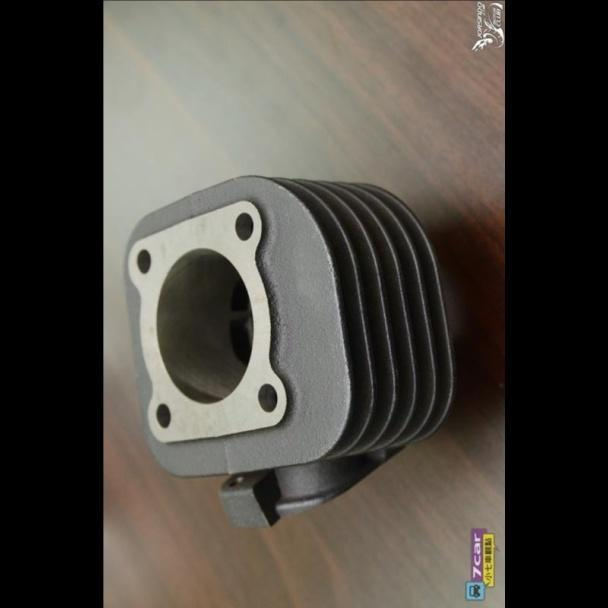hole: (232, 208, 257, 243), (255, 381, 278, 417)
